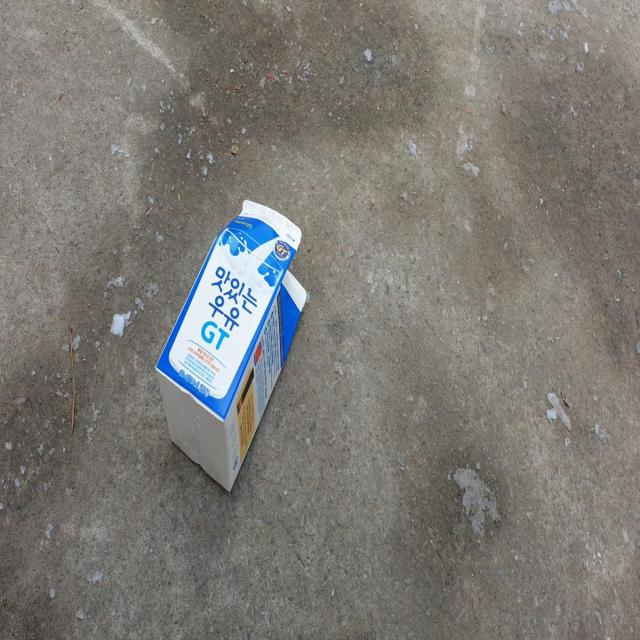paperpack: (156, 200, 307, 490)
